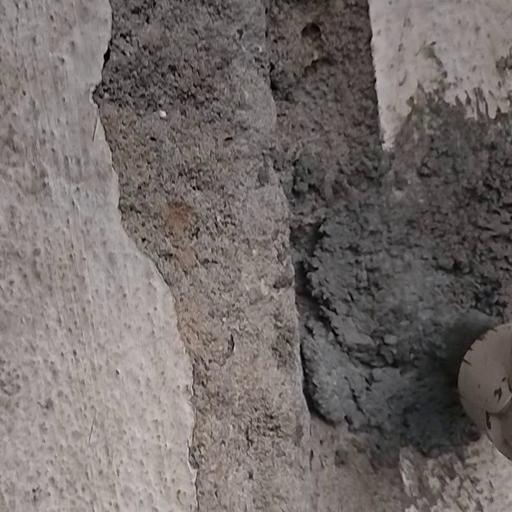spalling: (70, 0, 512, 512)
